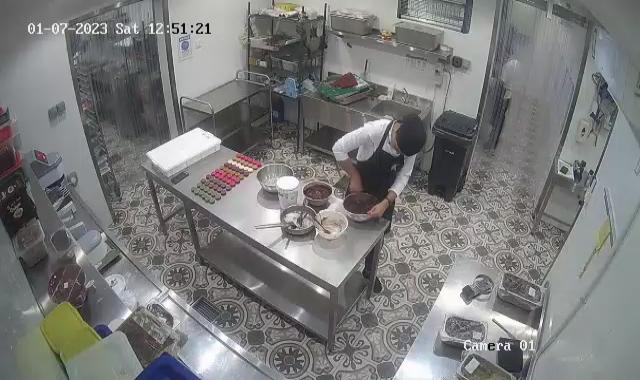no_hairnet: (390, 122, 427, 158)
